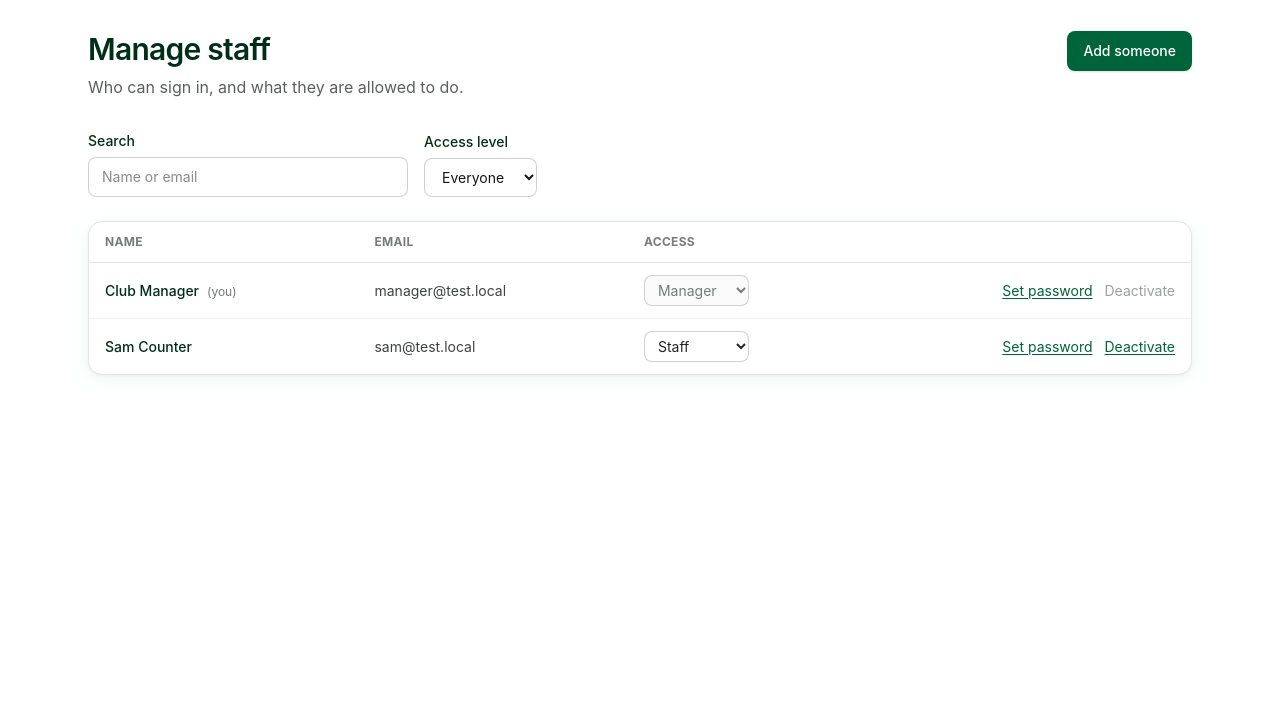
Test: AdminUsersPage › refuses a password the server would reject, without asking it
Click the button "Add someone" at (1130, 51), box [1067,31,1192,71]
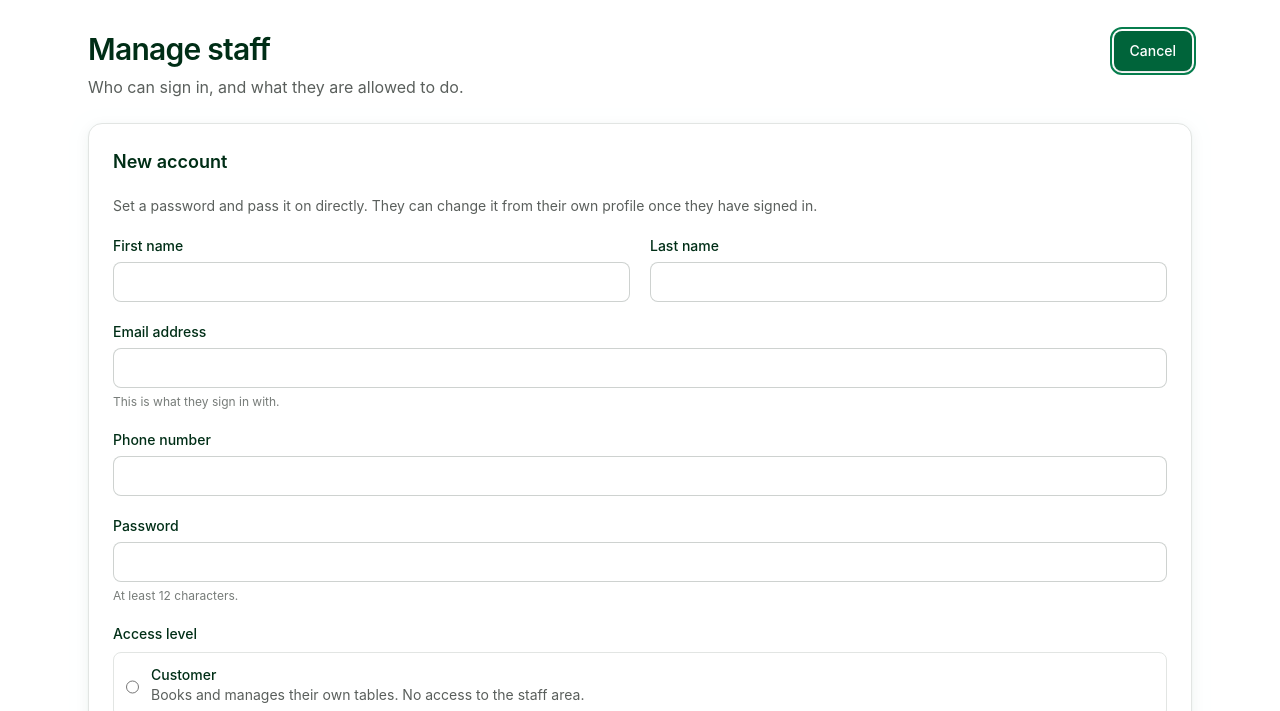
Type "New" into the field labelled "First name" at (372, 282), box [113,262,630,302]
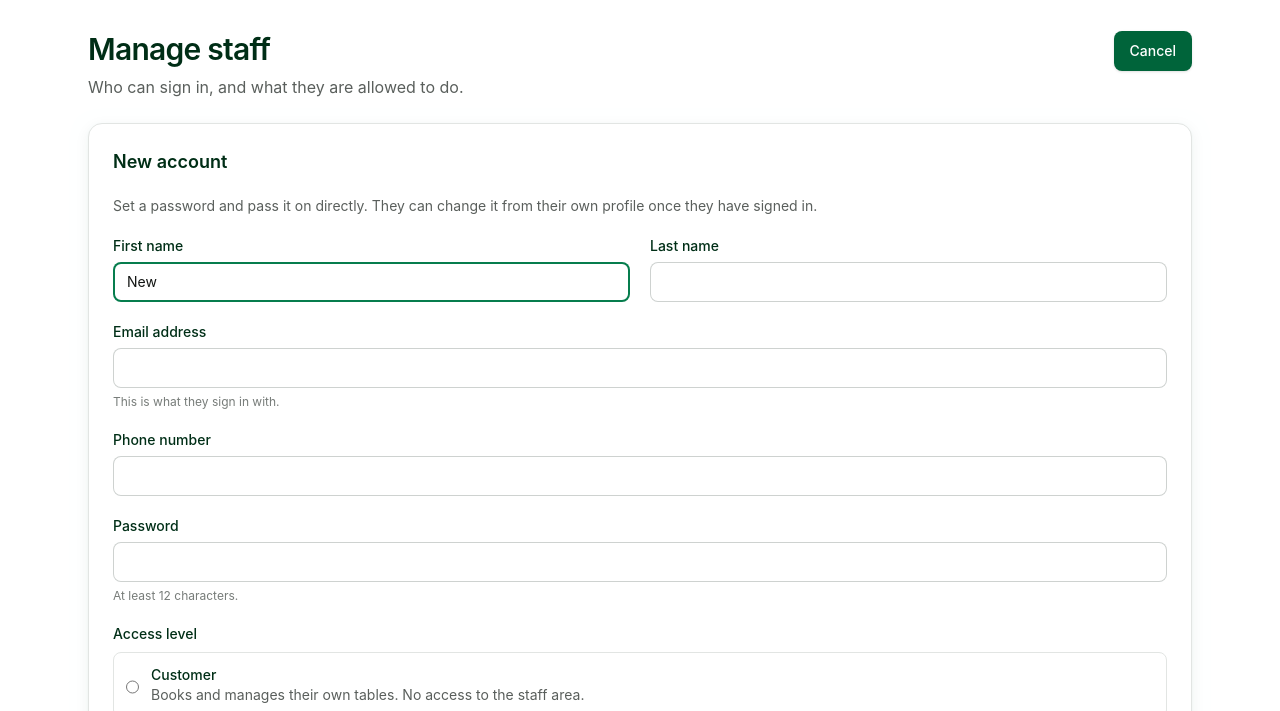
Type "Starter" into the field labelled "Last name" at (908, 282), box [650,262,1167,302]
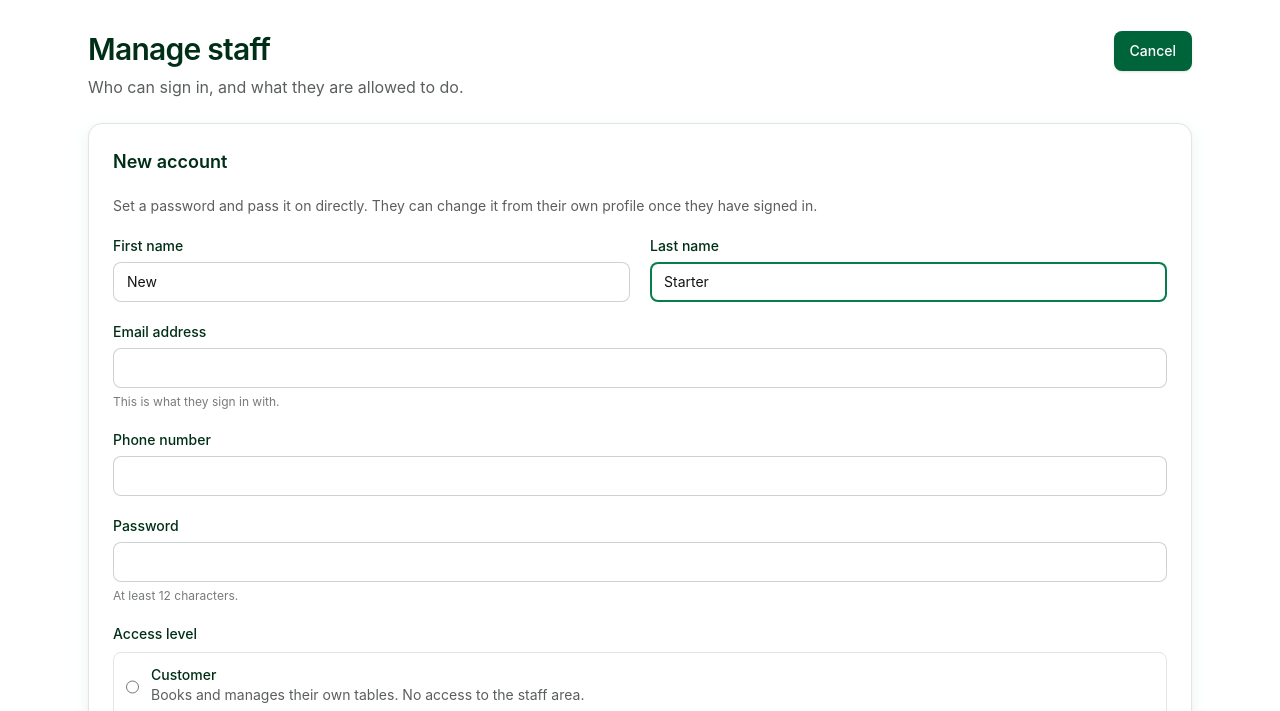
Type "new@test.local" into the field labelled "Email address" at (640, 368), box [113,348,1167,388]
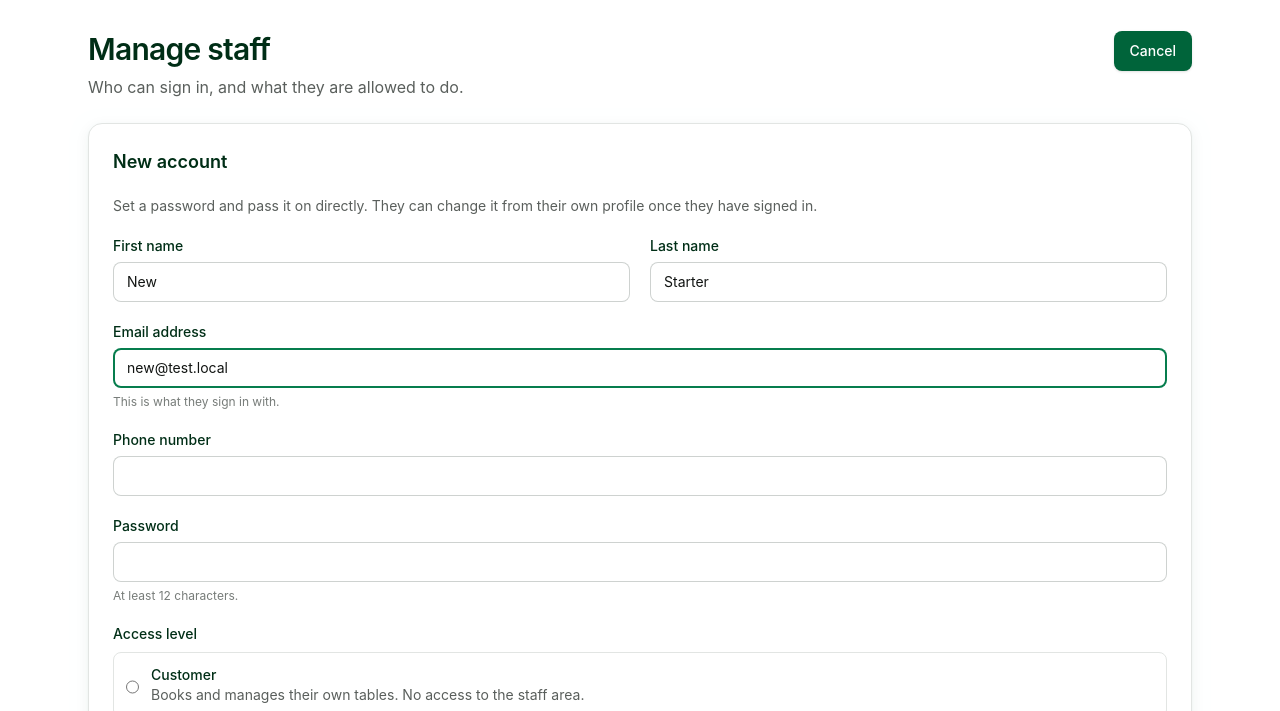
Type "short" into the password field labelled "Password" at (640, 562), box [113,542,1167,582]
(page scrolled)
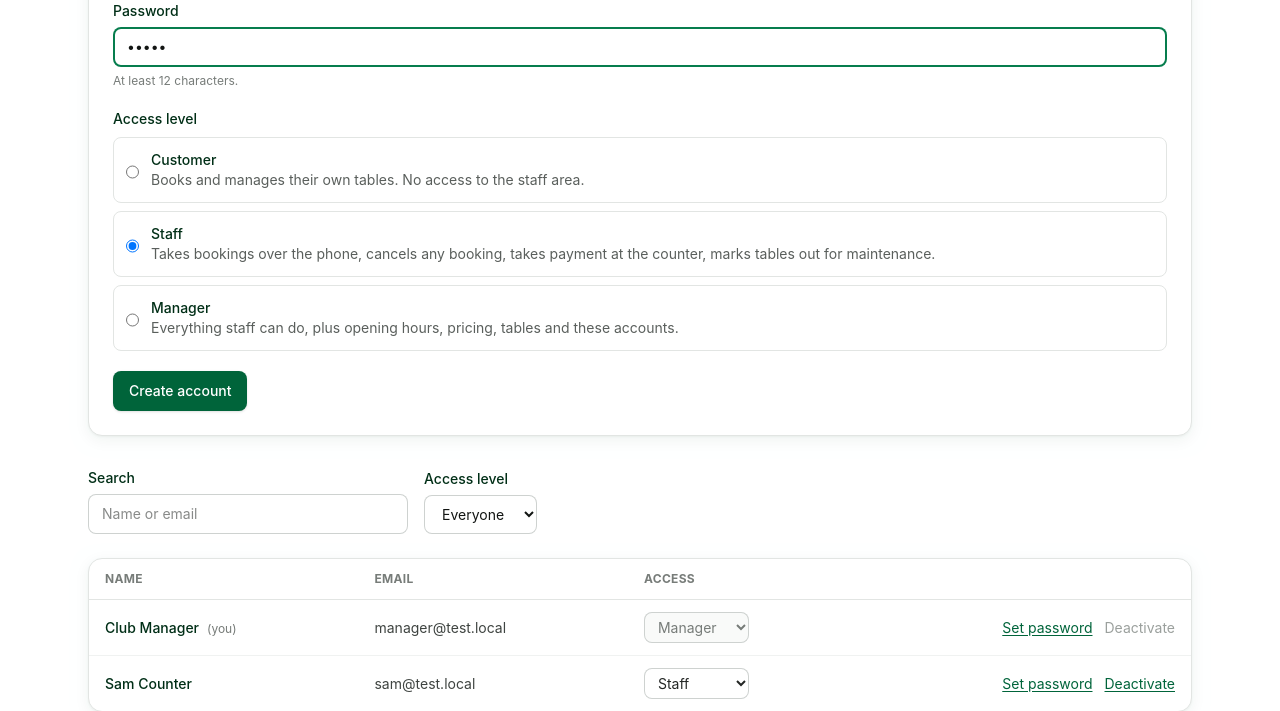
Click the button "Create account" at (180, 391), box [113,371,248,411]
(page scrolled)
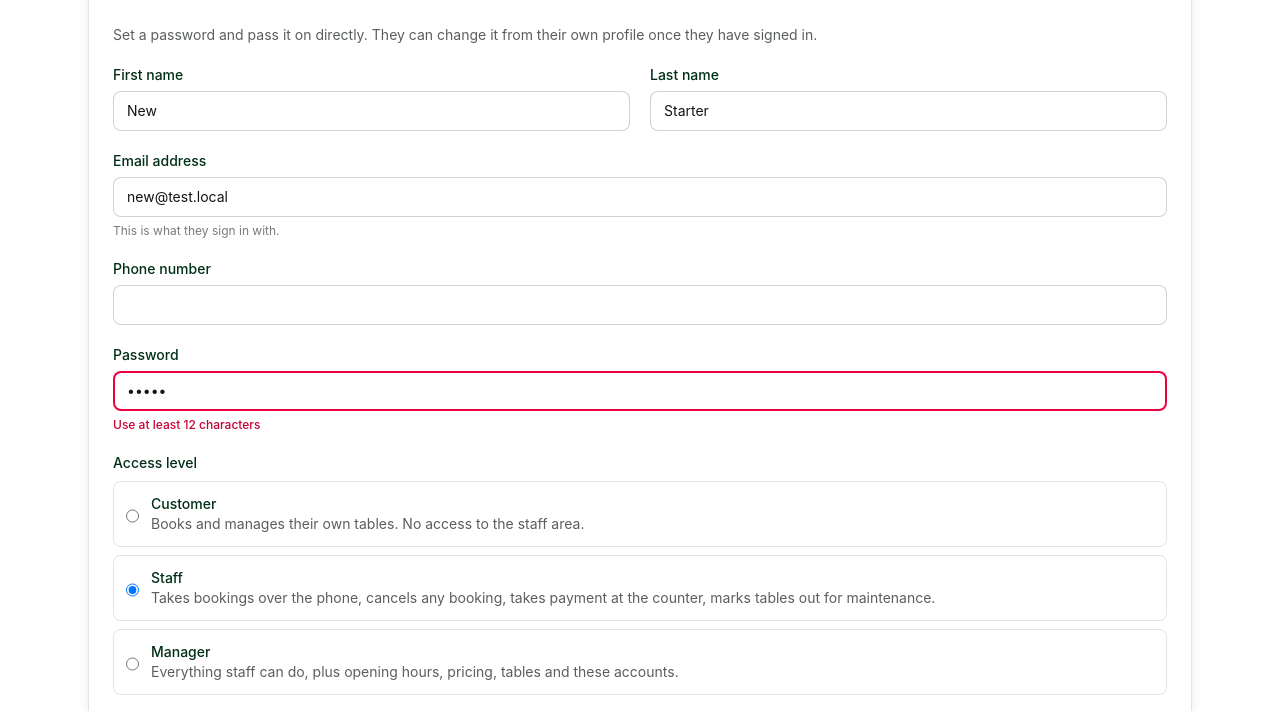
Check: the text "Use at least 12 characters" is shown, box [113,417,260,432]
